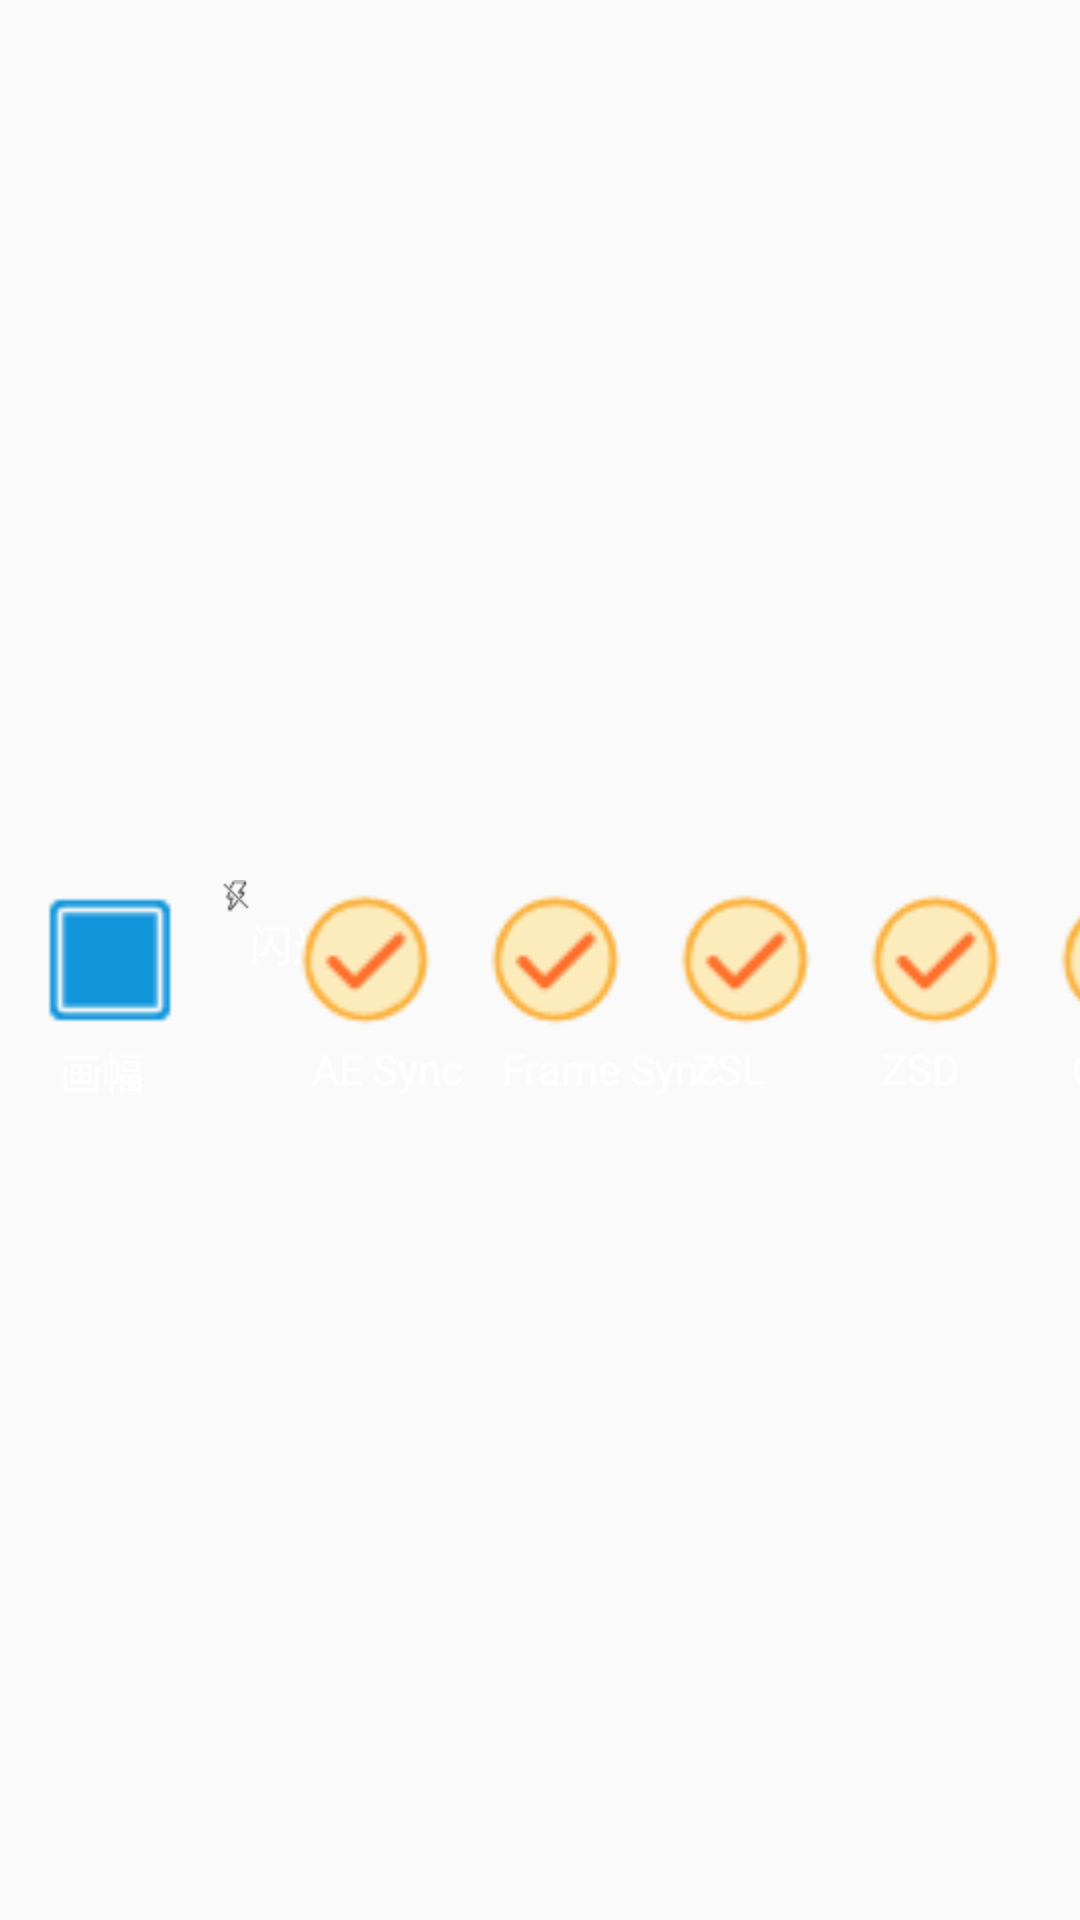

Screen size 1080px x 1920px. Icon name, then its box in pixels as box(x1, y1, x2, y2):
flash off: box(223, 880, 249, 912)
